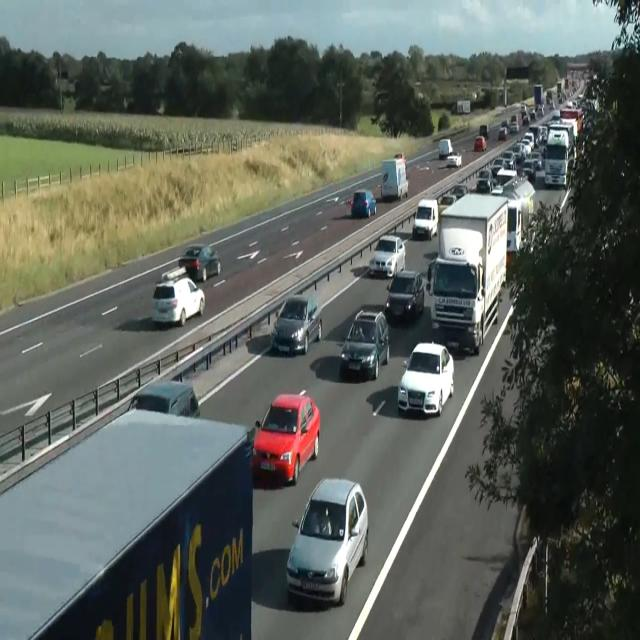bus: (286, 476, 368, 606), (252, 388, 320, 486), (398, 341, 454, 417), (340, 308, 390, 379), (271, 294, 322, 356), (128, 378, 200, 418), (368, 234, 406, 277), (179, 244, 221, 282), (350, 189, 376, 218), (160, 265, 188, 283), (448, 183, 468, 199), (438, 138, 452, 158), (438, 194, 458, 207), (446, 152, 462, 167), (394, 152, 406, 171), (474, 135, 486, 152), (479, 124, 489, 138), (498, 127, 507, 141)
jeep: (152, 276, 204, 326), (384, 269, 424, 321), (412, 197, 438, 240)
minibus: (0, 407, 254, 639), (427, 191, 509, 354), (380, 153, 408, 201), (450, 100, 470, 114), (534, 84, 542, 108)
